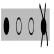correct: (3, 14, 10, 37)
not correct: (38, 3, 49, 47)
